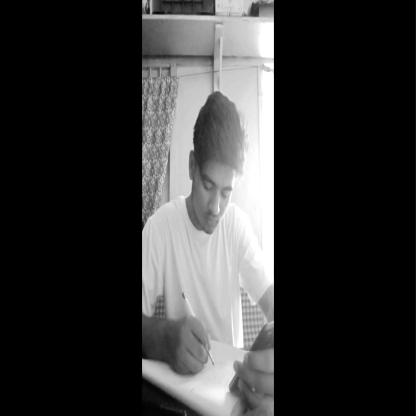Distracted: (188, 85, 241, 233)
